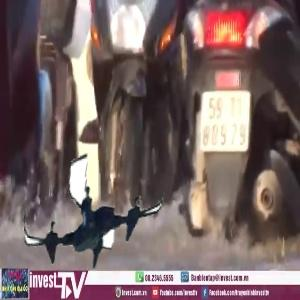drone: (24, 149, 163, 288)
